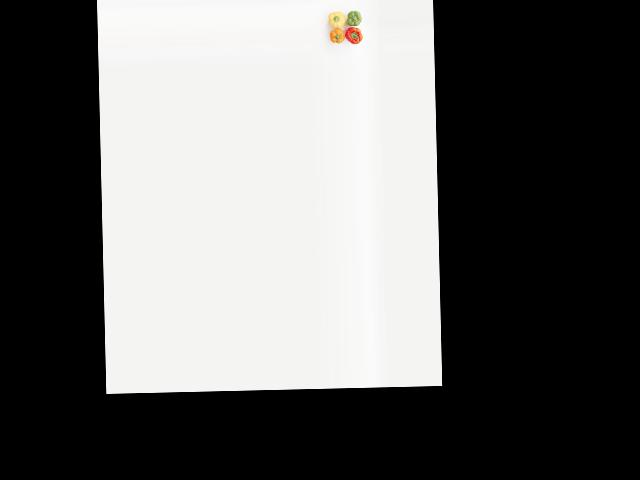bell_pepper: (344, 5, 363, 30)
